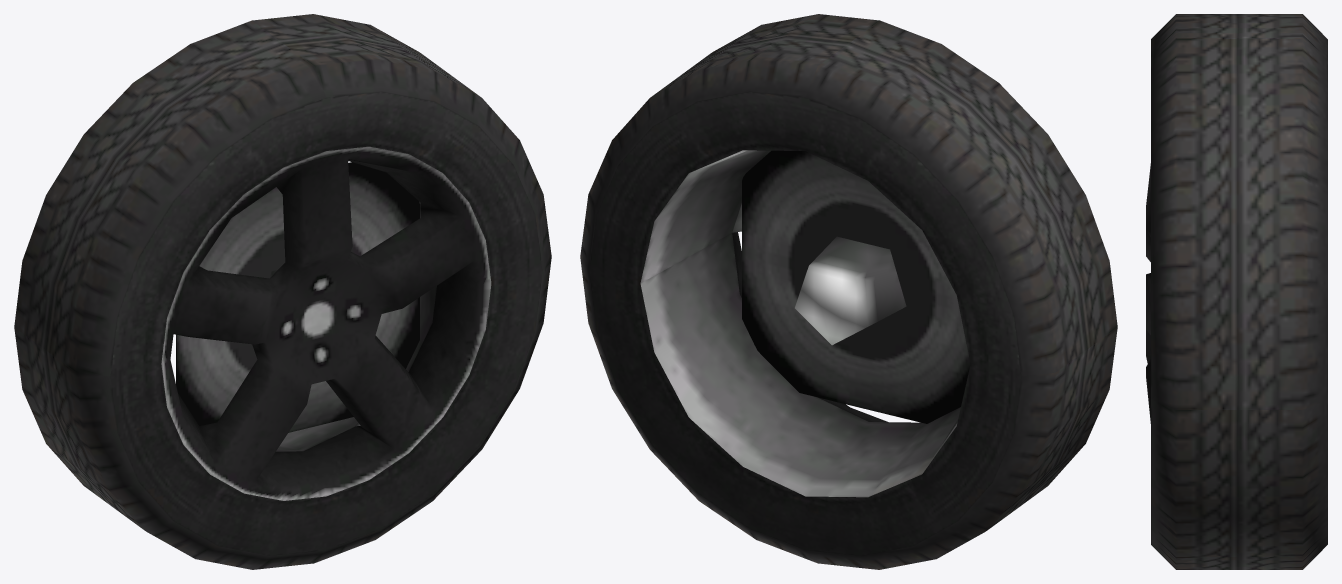
File: V_A_2DrCoupe_Wheels_16_SkeletalMesh3_SkeletalMesh_32.psk.glb
3 renders of one model, left to right at view 1: azimuth 30°, elevation 25°; view 2: azimuth 150°, elevation 25°; view 3: azimuth 270°, elevation 25°, orthographic.
Size of the model in its own units: 68.85 by 68.85 by 22.43.
1 material, 1 textured.
